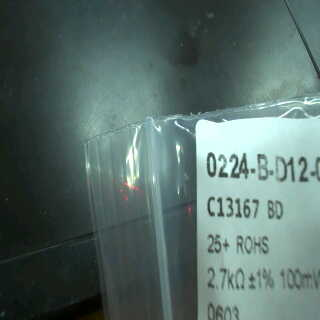2.7kR: (204, 263, 247, 297)
